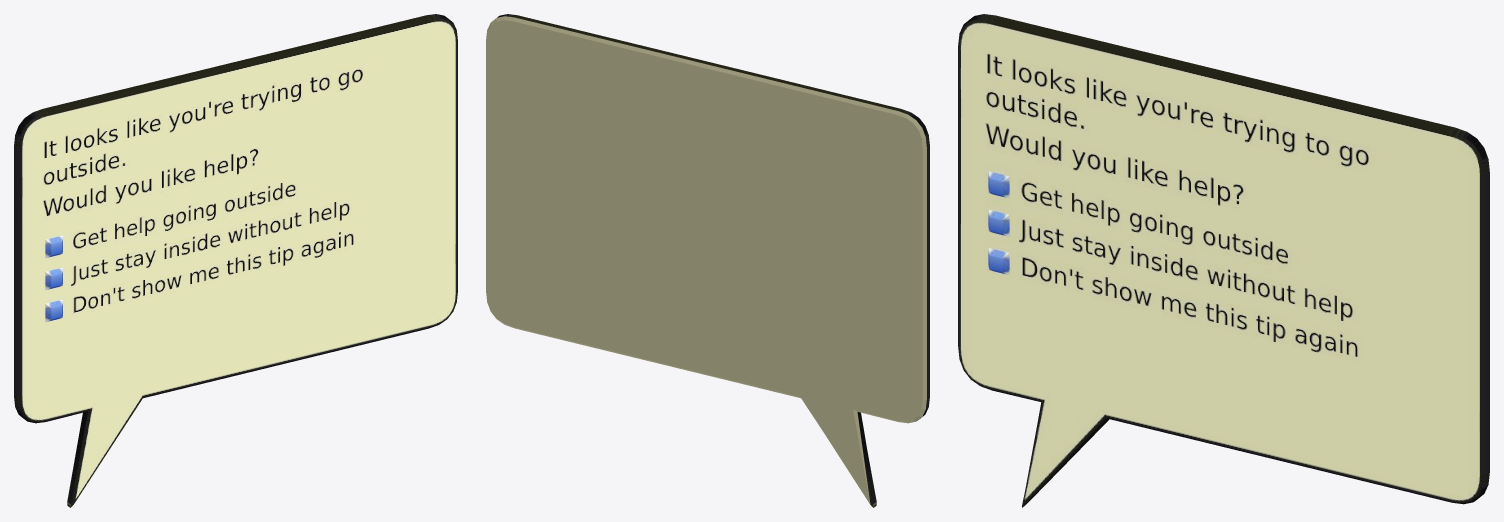
Rendered from clippy-balloon-outside.glb.
3 views of the same model, side by side, from view 1: azimuth 30°, elevation 25°; view 2: azimuth 150°, elevation 25°; view 3: azimuth 330°, elevation 25° (orthographic). The views are drawn at different scales.
Visible parts, largest first — view 1: balloon; view 2: balloon; view 3: balloon.
Boxes of the visible parts, <box> form: balloon: <box>14,14,457,507</box>; balloon: <box>486,14,929,507</box>; balloon: <box>958,14,1489,507</box>.
Bounding box in the file's own units: 0.506 × 0.4418 × 0.017.
Materials: 1 (1 with a texture image).
